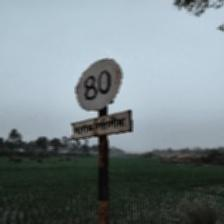Speed-limit: (72, 57, 131, 141)
